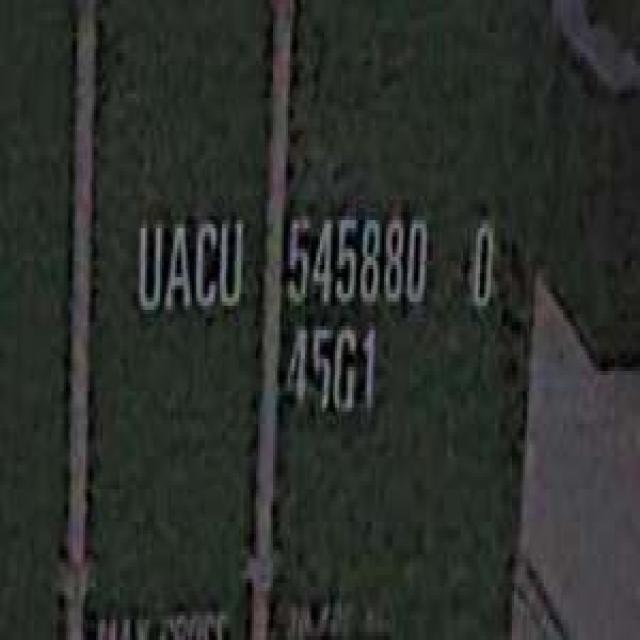dv: (463, 208, 497, 318)
owner: (130, 204, 248, 326)
serial: (282, 200, 431, 314)
size: (279, 314, 380, 428)
